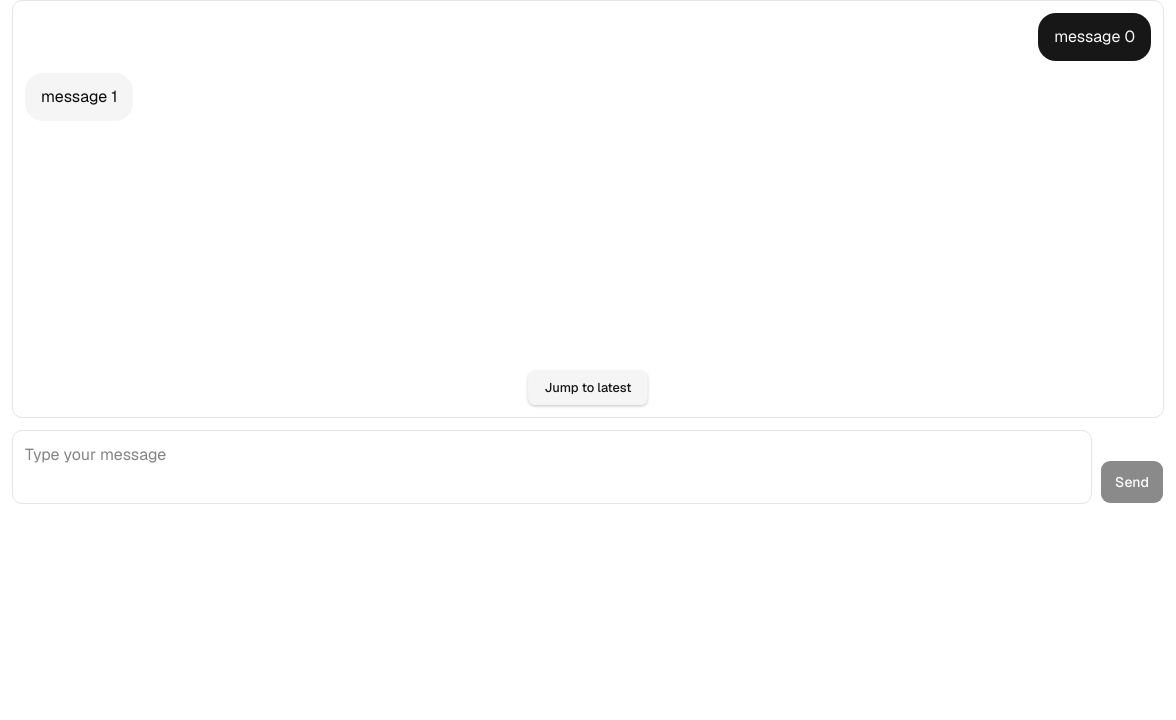
Chat scrolling › sending a message pins the view to the bottom again
In the text box labelled "your message": (552, 467) top-left (12, 430), bottom-right (1092, 504), type "hello"
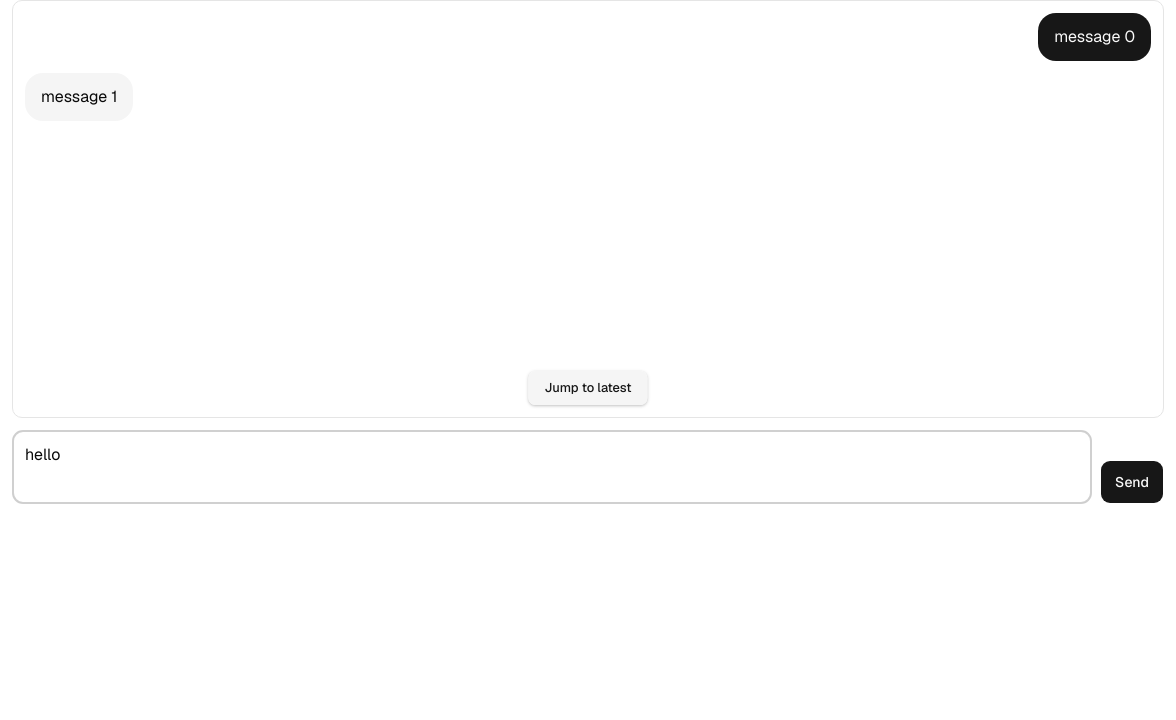
Click the button "Send": click(1132, 482) top-left (1100, 460), bottom-right (1164, 504)
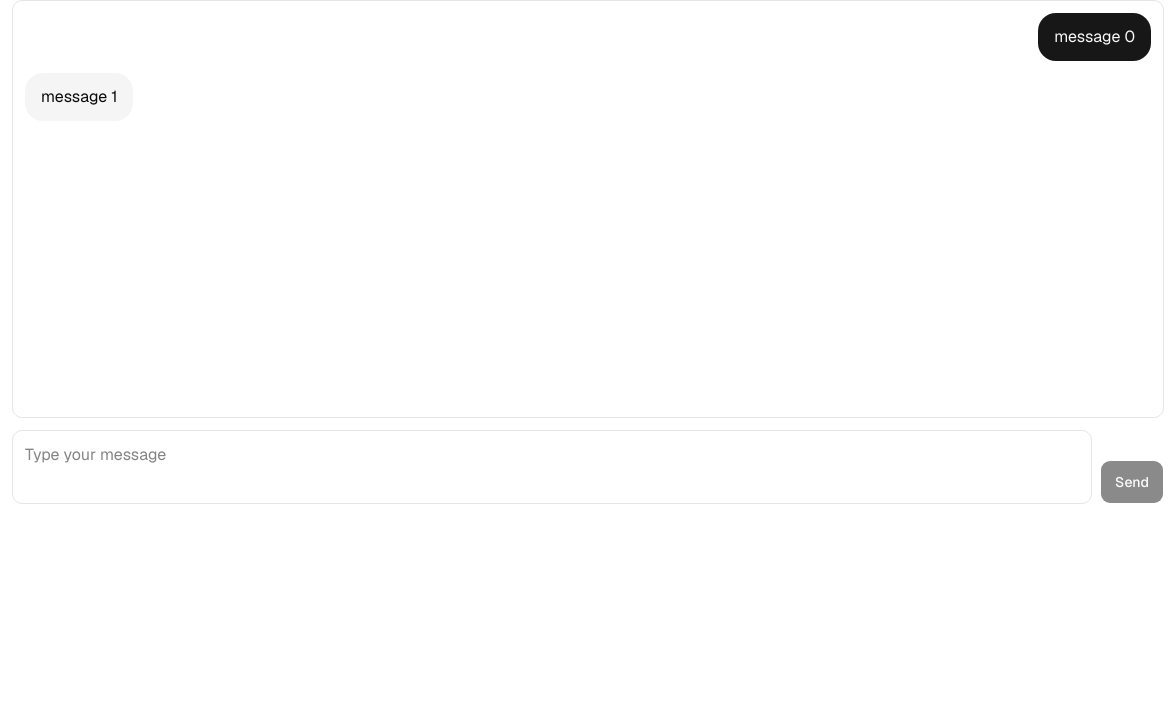
expect the button "Jump to latest" is gone: met
